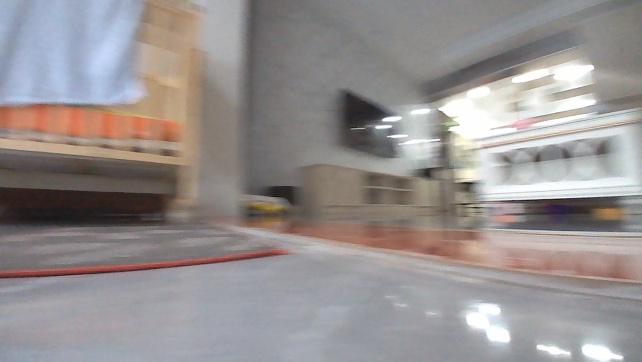TV_stand: (292, 160, 441, 220)
blanket: (0, 219, 290, 280)
